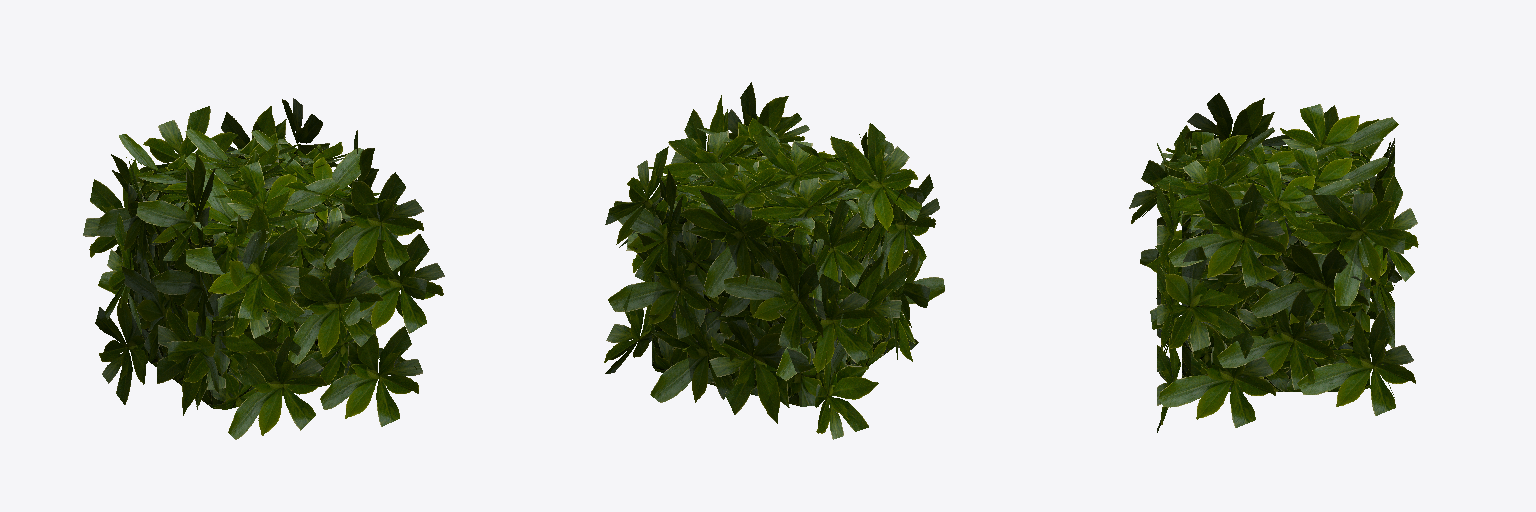
3 views of the same model, side by side, from view 1: azimuth 30°, elevation 25°; view 2: azimuth 150°, elevation 25°; view 3: azimuth 270°, elevation 25° (orthographic).
Visible parts, largest first — view 1: shrub04; view 2: shrub04; view 3: shrub04.
Boxes of the visible parts, x1,y1,x2,y2 form: shrub04: [83, 98, 444, 439]; shrub04: [604, 82, 944, 439]; shrub04: [1129, 93, 1418, 432].
Size of the model in its own units: 0.8814 by 0.8951 by 0.8683.
2 materials, 2 textured.